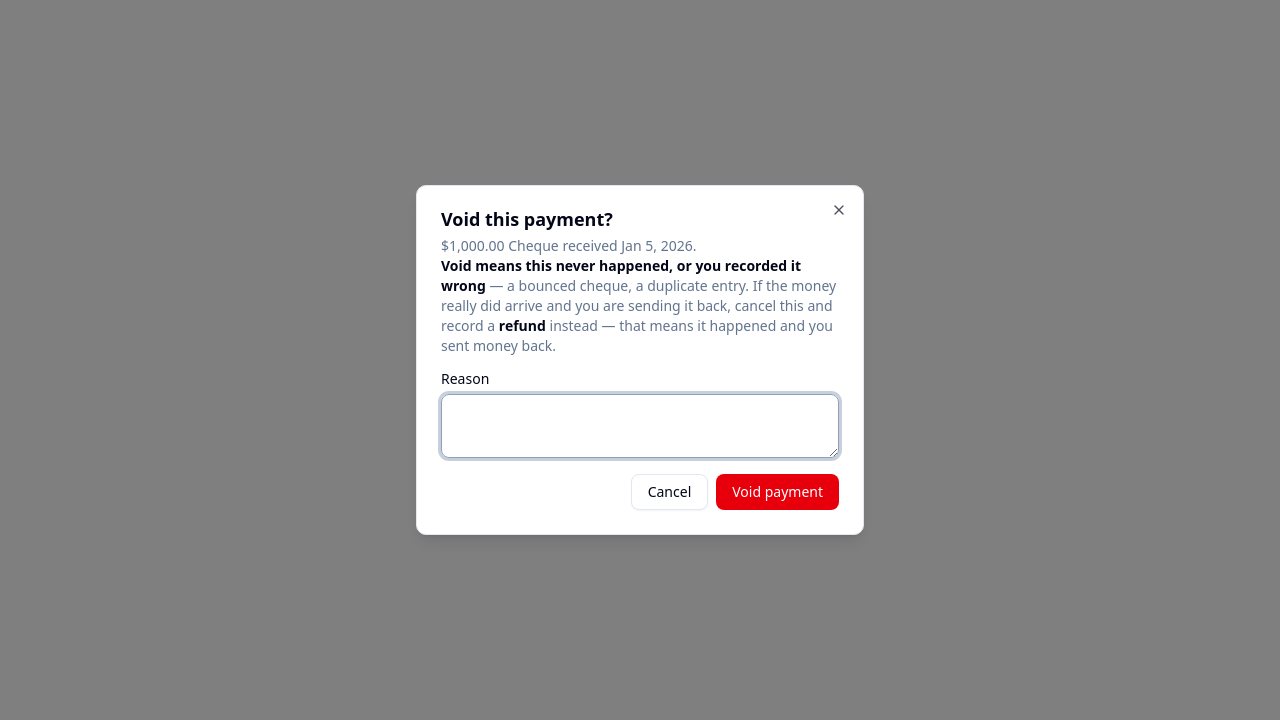
Test: VoidPaymentDialog — the void/refund distinction, said in plain words › refuses to submit a reason shorter than 10 characters, with the contract's own message
Type "too short" into the text box labelled "Reason" at (640, 426), box [441, 394, 839, 458]
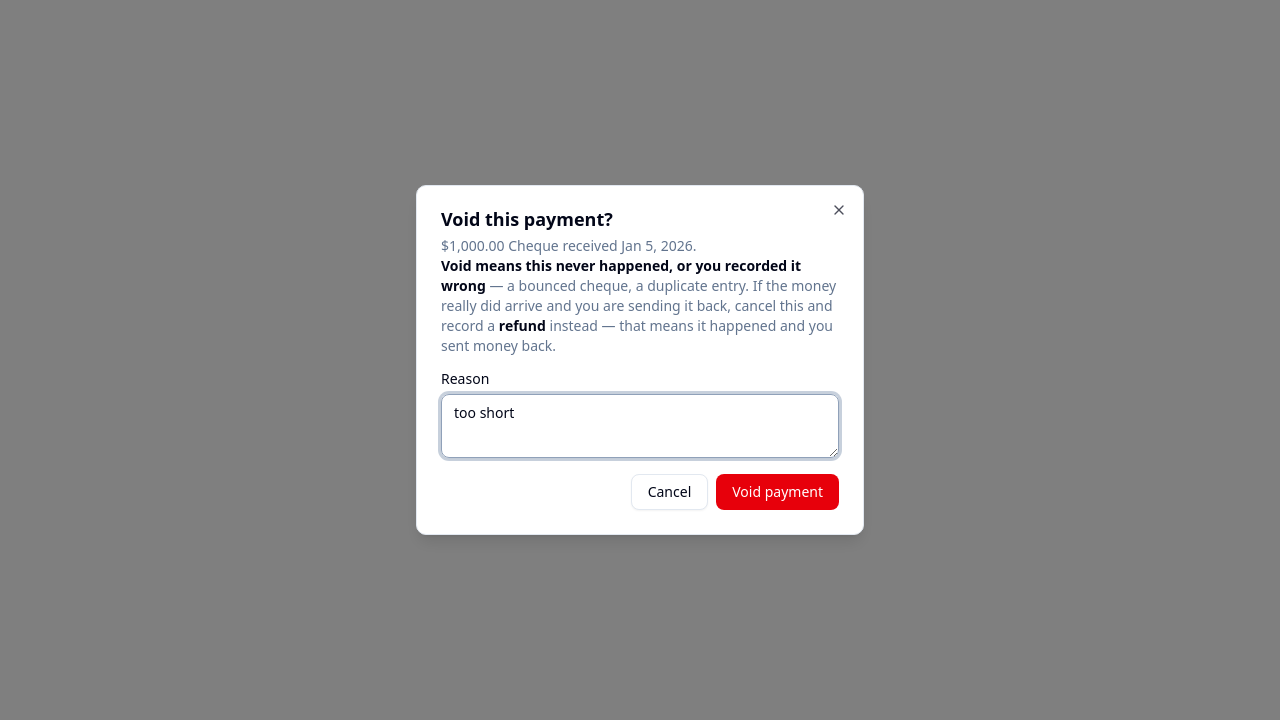
Click the button "Void payment" at (778, 492), box [716, 474, 839, 510]
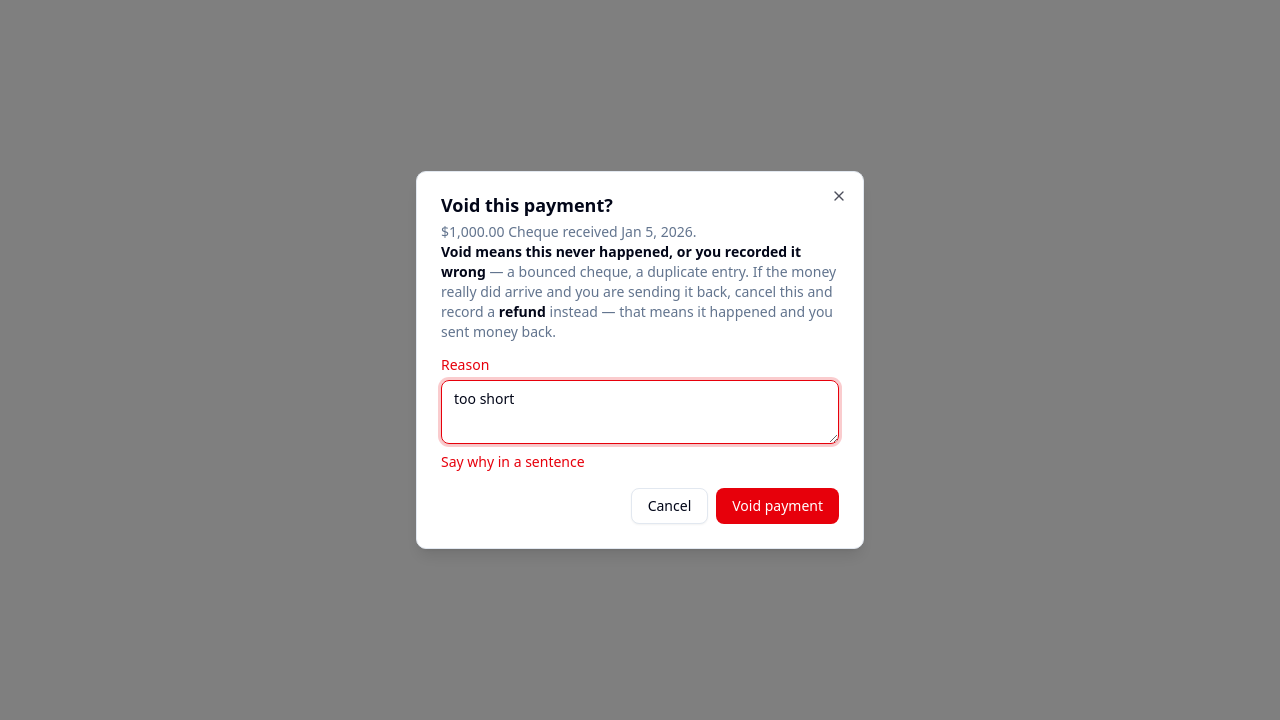
Expected: the text "Say why in a sentence" is shown, [441, 452, 585, 471]
